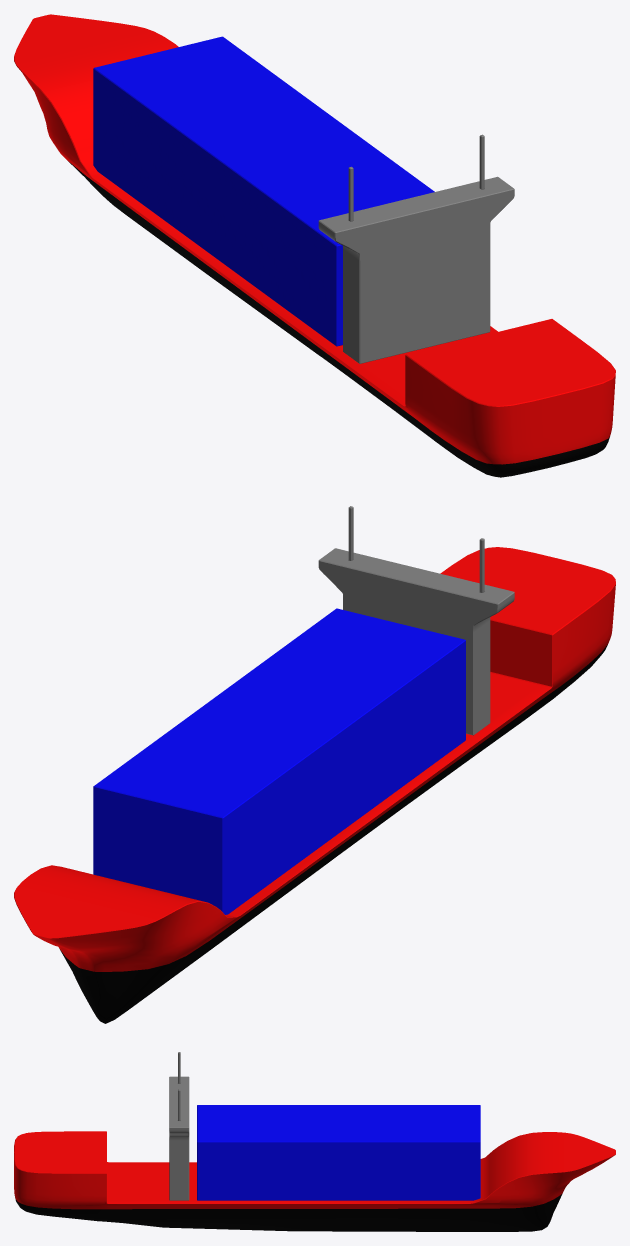
Rendered from ship.gltf.
3 views of the same model, one above another, from view 1: azimuth 30°, elevation 25°; view 2: azimuth 150°, elevation 25°; view 3: azimuth 270°, elevation 25° (orthographic). The views are drawn at different scales.
Parts seen in each view (by area): view 1: boat; view 2: boat; view 3: boat.
Part boxes in pixels (bbox=[...]): boat: bbox=[14, 14, 615, 477]; boat: bbox=[14, 506, 615, 1023]; boat: bbox=[14, 1052, 615, 1231].
Size of the model in its own units: 2.05 by 3 by 10.19.
Materials: 1 (1 with a texture image).
